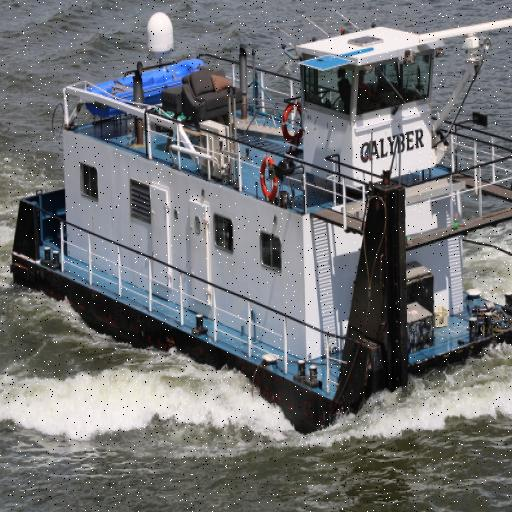tugboat: (10, 11, 512, 450)
